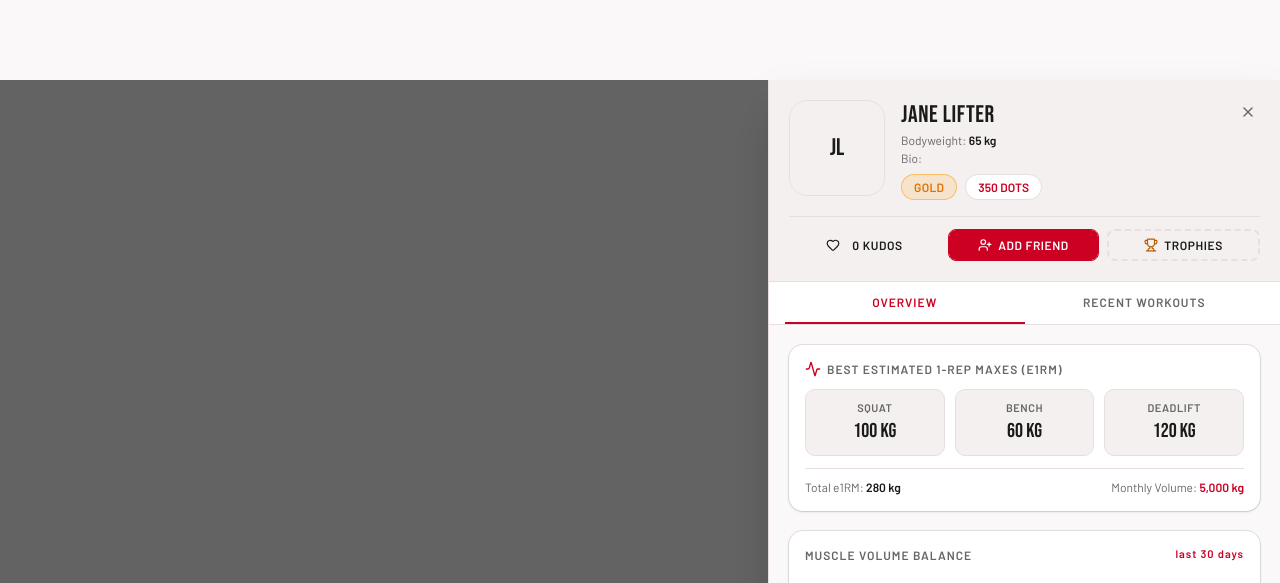
Test: ProfInspDrawer › sends kudos, updates count
Click the button "0 Kudos": (864,245) [789,229,940,261]
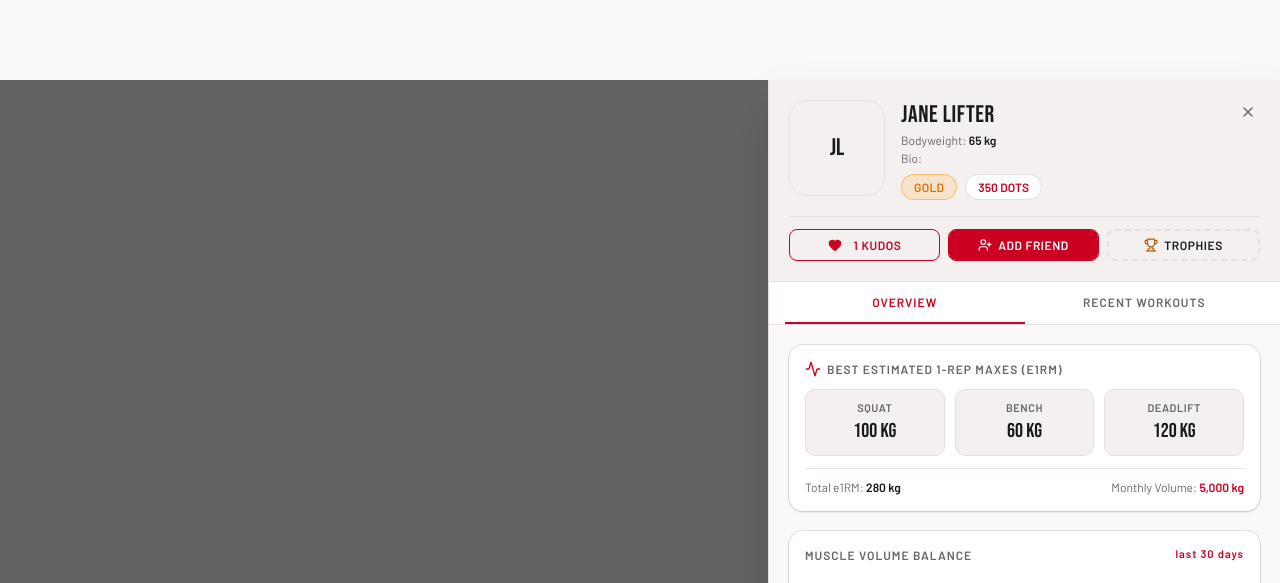
Result: the text "1 Kudos" is shown at [854,237,902,253]
Click the button "1 Kudos": (864,245) [789,229,940,261]
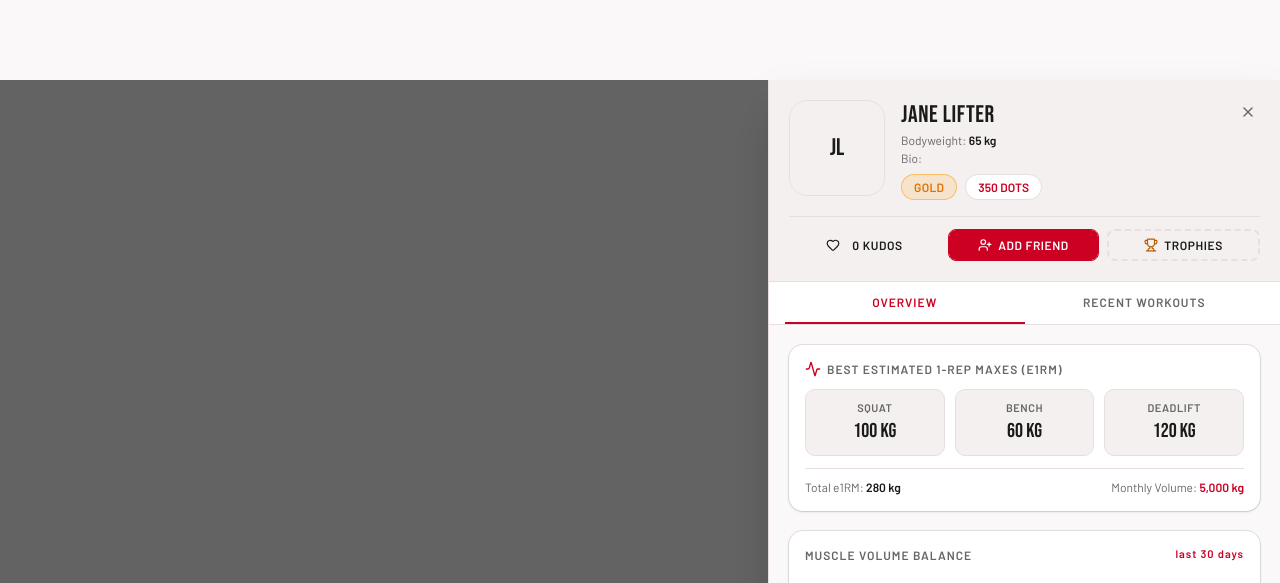
Result: the text "0 Kudos" is shown at [852,237,903,253]
